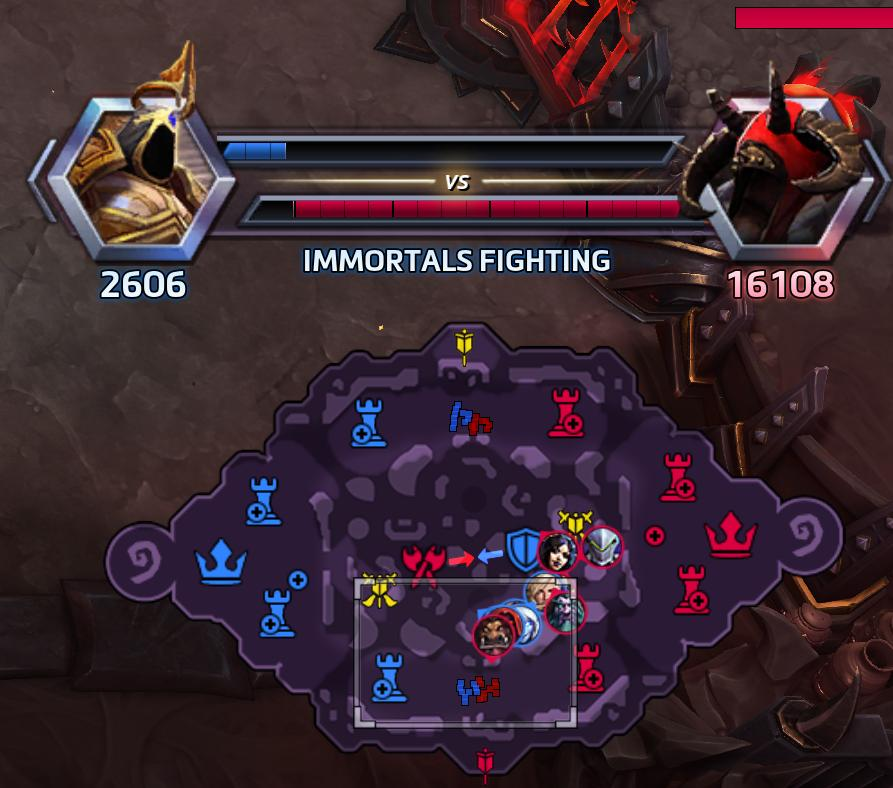blue nexus: (190, 531, 256, 591)
blue player: (498, 601, 541, 647), (557, 508, 595, 537)
blue tower: (344, 391, 398, 454), (364, 648, 416, 709), (255, 579, 299, 644), (242, 473, 286, 528)
red nexus: (699, 505, 762, 561)
red player: (473, 610, 516, 659), (536, 531, 577, 575), (582, 524, 622, 568), (545, 592, 585, 635), (523, 573, 565, 613)
red tower: (654, 451, 701, 509), (544, 383, 589, 442), (669, 561, 714, 619), (566, 641, 604, 693)
